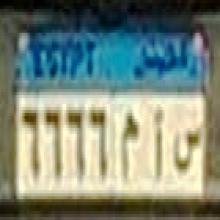6: (64, 105, 88, 186), (88, 103, 109, 179), (21, 103, 40, 185), (44, 105, 63, 182)
alif: (151, 108, 166, 184)
meem: (117, 106, 139, 186)
seen: (172, 123, 202, 178)
